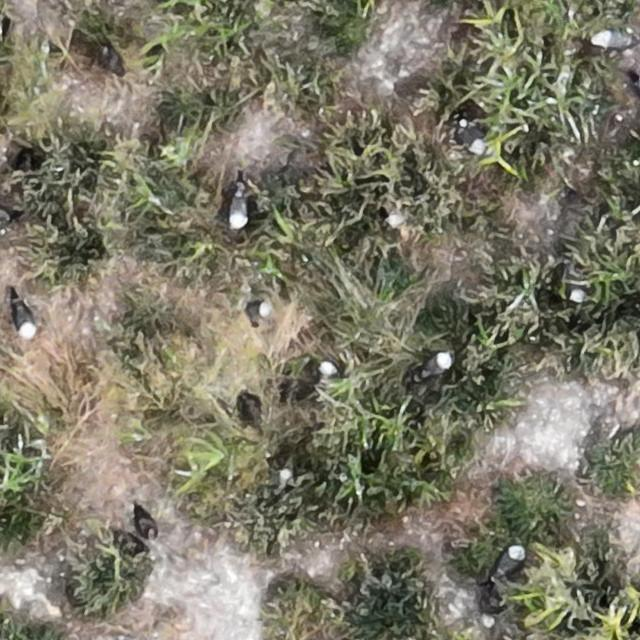umineko: (496, 544, 523, 576), (420, 352, 451, 378), (229, 192, 249, 227), (459, 122, 482, 152), (594, 29, 631, 47), (16, 302, 35, 336), (271, 468, 292, 489), (316, 360, 336, 380), (568, 285, 589, 304), (242, 303, 272, 316)
